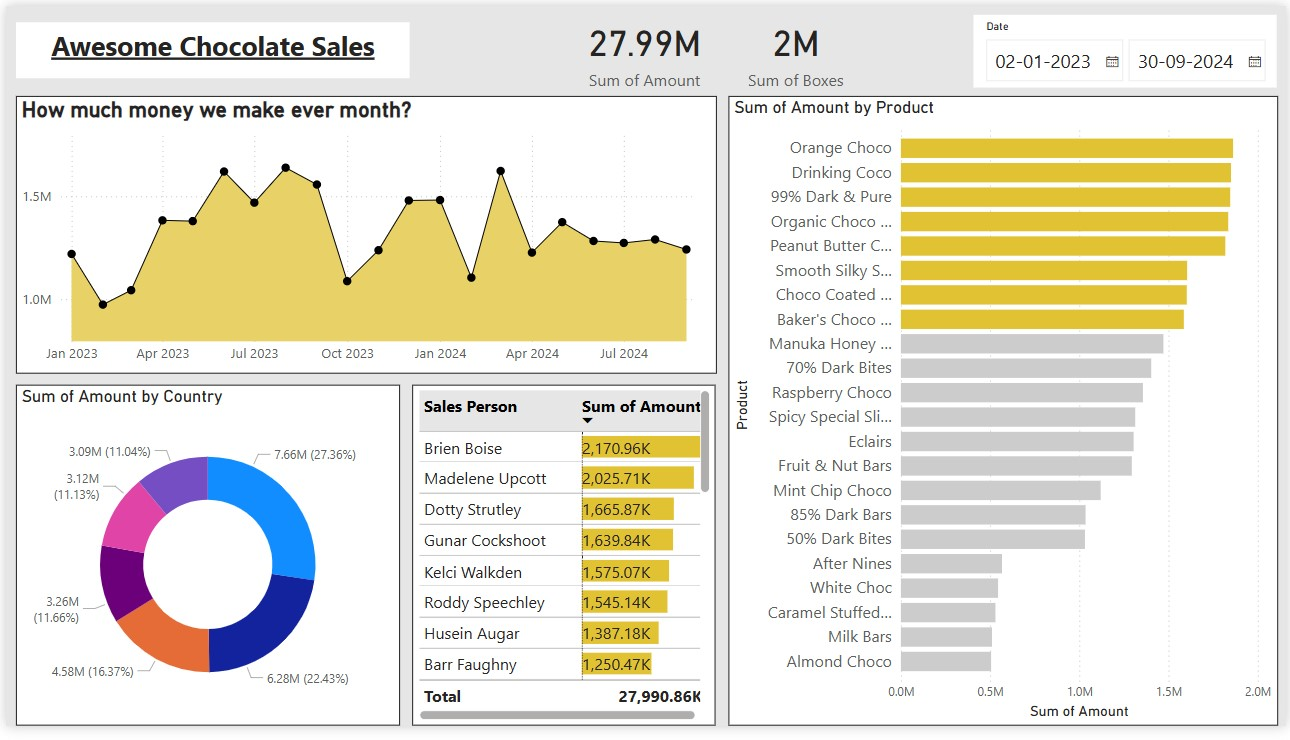

This screenshot's page, from the dashboard's own definition file:
{"tool":"powerbi","page":{"name":"Page 1","canvas":[1280,720],"ordinal":0},"visuals":[{"type":"lineChart","title":"How much money we make ever month?","fields":{"Y":["Awsome Chocolate Sales Data.Amount"],"Category":["Awsome Chocolate Sales Data.Date.Variation.Date Hierarchy.Year","Awsome Chocolate Sales Data.Date.Variation.Date Hierarchy.Quarter","Awsome Chocolate Sales Data.Date.Variation.Date Hierarchy.Month","Awsome Chocolate Sales Data.Date.Variation.Date Hierarchy.Day"]},"box":[9.4,90.2,700.8,277.7],"z":0},{"type":"card","fields":{"Values":["Awsome Chocolate Sales Data.Amount"]},"box":[560.8,0,155,90],"z":1000},{"type":"card","fields":{"Values":["Awsome Chocolate Sales Data.Boxes"]},"box":[715.8,0,147.5,90],"z":2000},{"type":"textbox","box":[9.4,16.4,393.8,56.3],"z":3000},{"type":"slicer","fields":{"Values":["Awsome Chocolate Sales Data.Date"]},"box":[968,8.2,303.5,72.7],"z":4000},{"type":"donutChart","fields":{"Category":["Awsome Chocolate Sales Data.Country"],"Y":["Awsome Chocolate Sales Data.Amount"]},"box":[9.4,378.5,384.4,341],"z":5000},{"type":"tableEx","fields":{"Values":["Awsome Chocolate Sales Data.Sales Person","Awsome Chocolate Sales Data.Amount"]},"box":[406.6,378.5,303.5,341],"z":6000},{"type":"barChart","fields":{"Category":["Awsome Chocolate Sales Data.Product"],"Y":["Awsome Chocolate Sales Data.Amount"]},"box":[721.9,90.2,549.6,629.3],"z":7000}]}

Visuals, with their boxes in screenshot pixels (x1, y1, x2, y2), scaled from the page's 1280x720 canvas onto the 1290x740 screenshot:
"How much money we make ever month?" lineChart: (left=9, top=93, right=716, bottom=378)
card - Awsome Chocolate Sales Data.Amount: (left=565, top=0, right=721, bottom=92)
card - Awsome Chocolate Sales Data.Boxes: (left=721, top=0, right=870, bottom=92)
textbox: (left=9, top=17, right=406, bottom=75)
slicer - Awsome Chocolate Sales Data.Date: (left=976, top=8, right=1281, bottom=83)
donutChart - Awsome Chocolate Sales Data.Country x Awsome Chocolate Sales Data.Amount: (left=9, top=389, right=397, bottom=739)
tableEx - Awsome Chocolate Sales Data.Sales Person x Awsome Chocolate Sales Data.Amount: (left=410, top=389, right=716, bottom=739)
barChart - Awsome Chocolate Sales Data.Product x Awsome Chocolate Sales Data.Amount: (left=728, top=93, right=1281, bottom=739)
